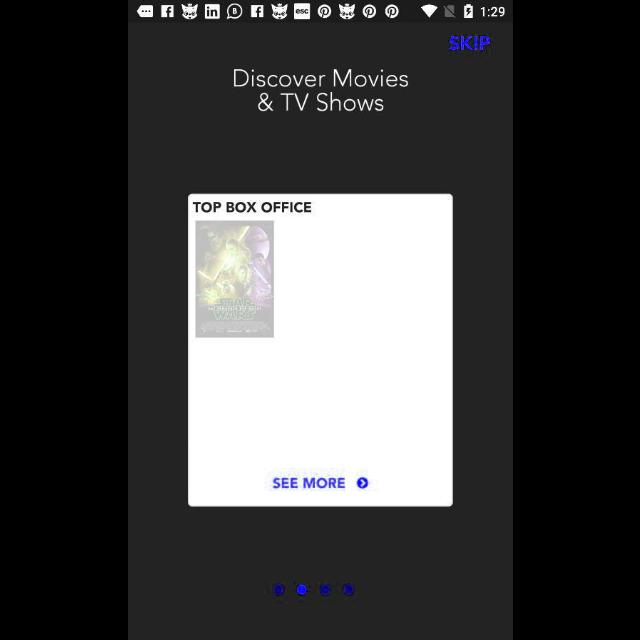image: (188, 195, 452, 508)
pageindicator: (272, 584, 354, 596)
text: (234, 70, 408, 112), (448, 37, 490, 51)
uppertaskbar: (128, 1, 512, 23)
